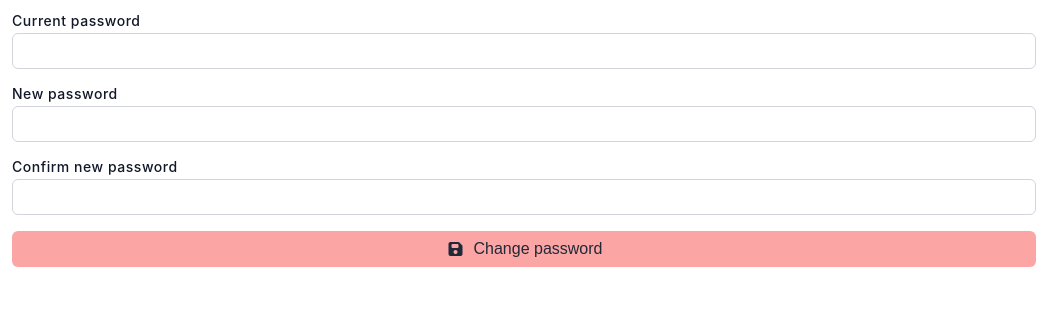
Scenario: ChangePasswordTab › rejects non-matching new passwords
Type "old-password" into the password field labelled "Current password". click: (524, 51)
box: 12,33 -> 1036,69
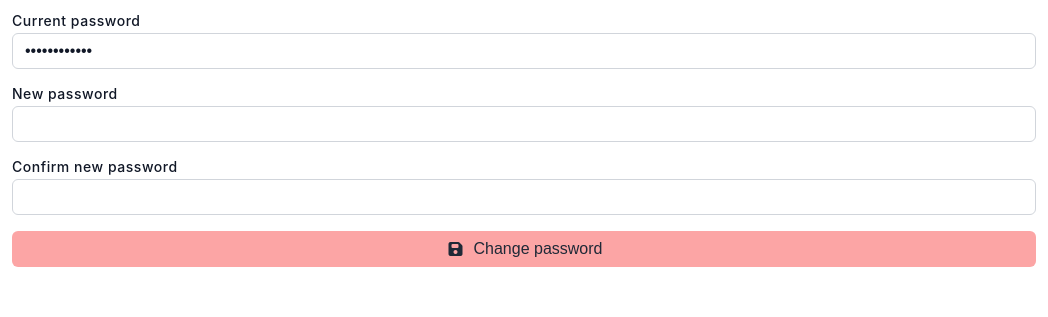
Type "new-password" into the password field labelled "New password". click: (524, 124)
box: 12,106 -> 1036,142
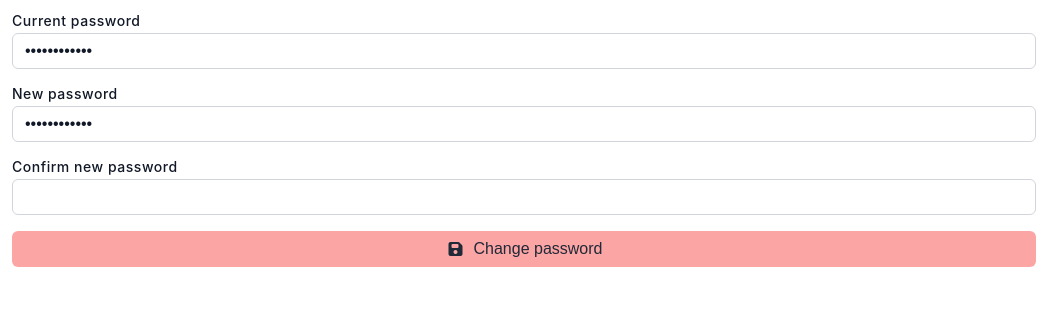
Type "different-password" into the password field labelled "Confirm new password". click: (524, 197)
box: 12,179 -> 1036,215
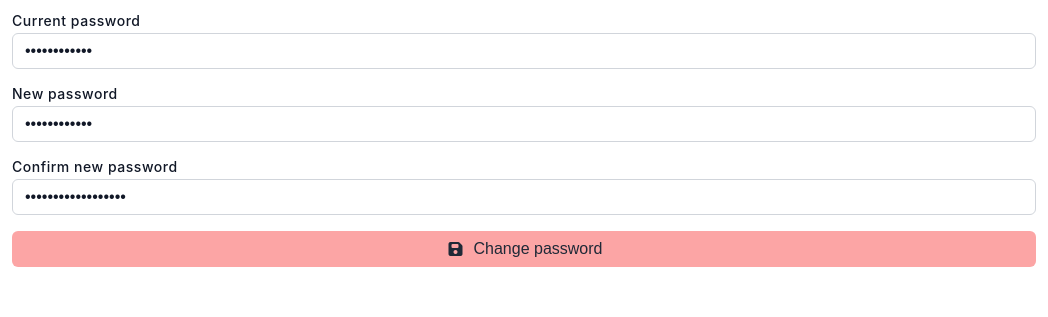
Submit the form
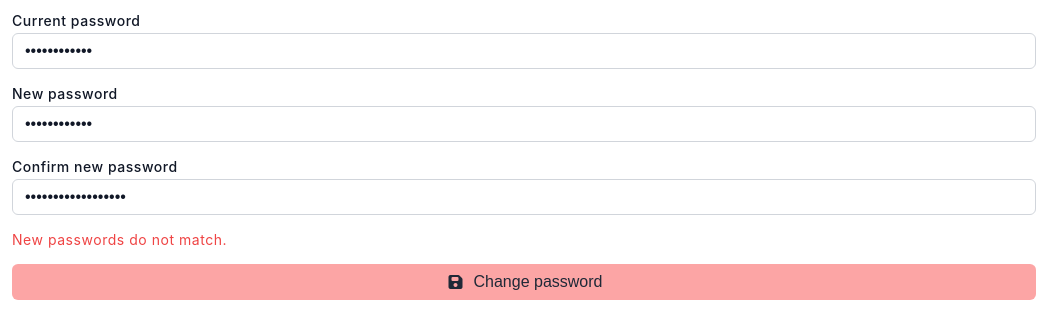
expect the form shows "New passwords do not match.": met, box 12,231 -> 227,248
